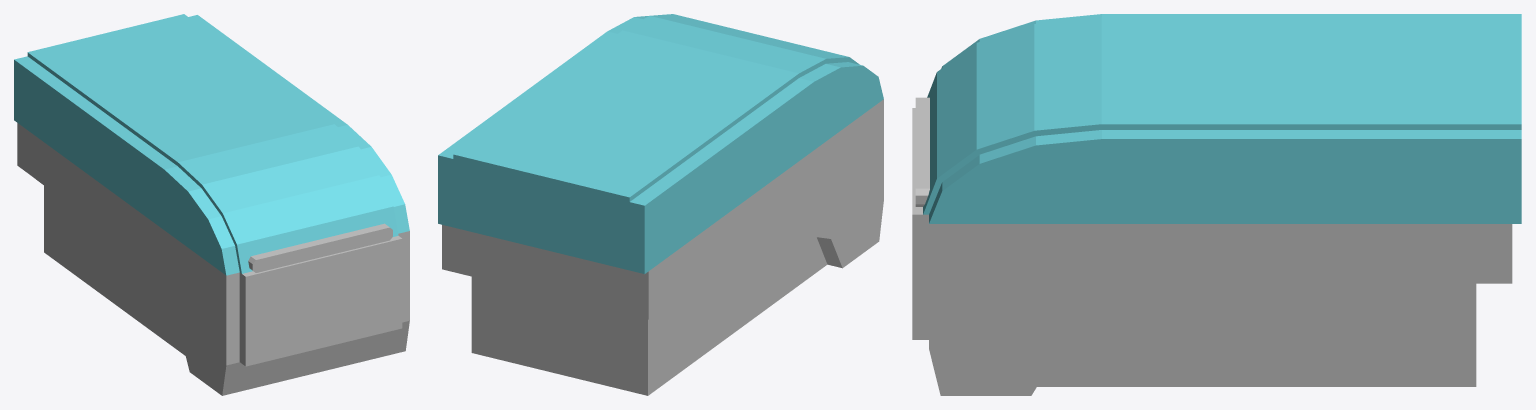
The model's file is SM_Mixing_Device.gltf.
3 views of the same model, side by side, from view 1: azimuth 30°, elevation 25°; view 2: azimuth 150°, elevation 25°; view 3: azimuth 270°, elevation 25° (orthographic). The views are drawn at different scales.
Parts seen in each view (by area): view 1: SM_Mixing_Device; view 2: SM_Mixing_Device; view 3: SM_Mixing_Device.
Part boxes in pixels (x1,y1,x2,y2): SM_Mixing_Device: [14, 14, 409, 395]; SM_Mixing_Device: [438, 14, 883, 395]; SM_Mixing_Device: [912, 14, 1521, 395].
Bounding box in the file's own units: 0.2634 × 0.258 × 0.5426.
